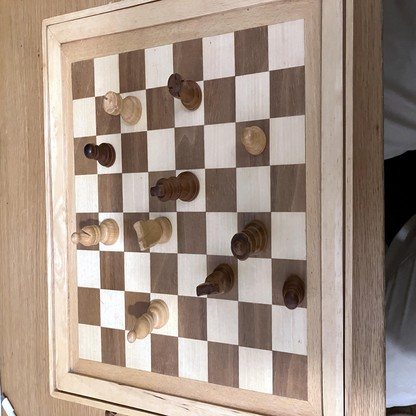bishop_white: (128, 301, 168, 342), (70, 218, 119, 246)
king_black: (151, 170, 199, 200)
knight_black: (197, 266, 235, 296)
knight_white: (135, 217, 171, 248)
pawn_black: (283, 275, 305, 309), (84, 144, 116, 167)
pawn_white: (242, 125, 266, 154)
queen_black: (233, 221, 268, 259)
rock_black: (168, 74, 202, 109)
rock_white: (103, 92, 141, 122)
